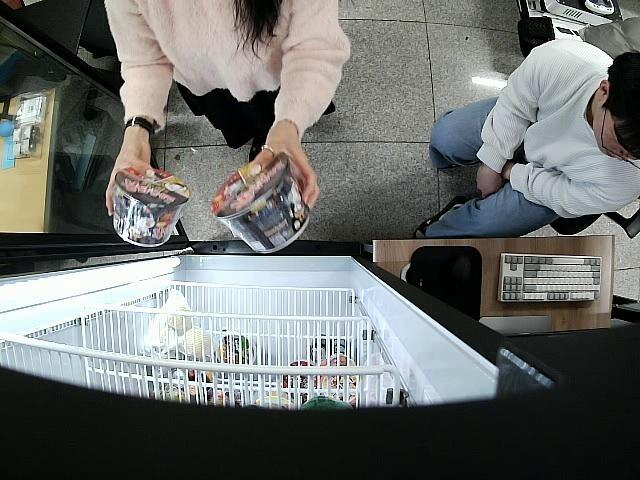07_buldak_L: (210, 156, 312, 251), (110, 165, 192, 246)
